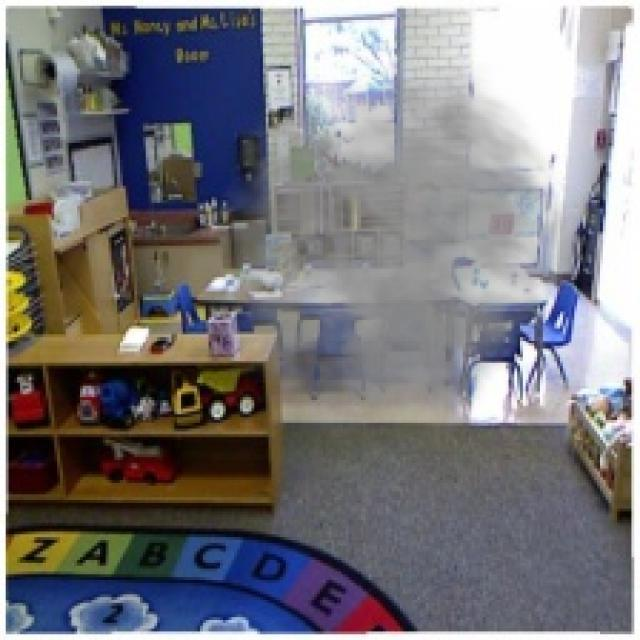Smoke: (180, 62, 580, 452)
